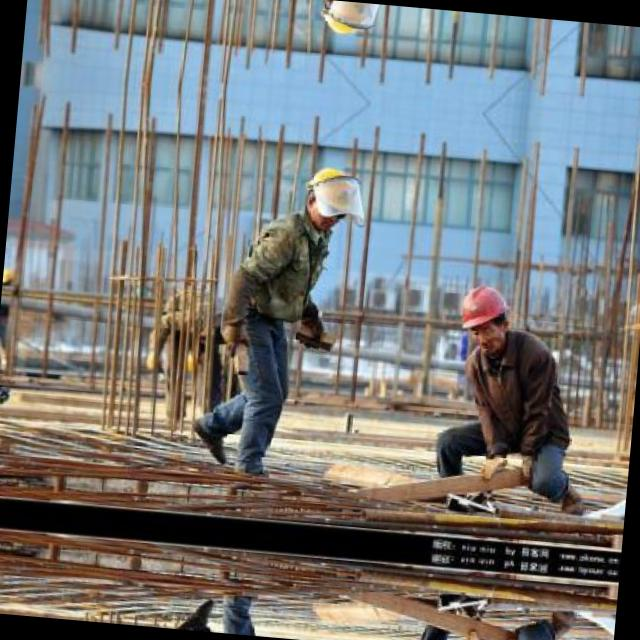helmet: (451, 278, 517, 358), (296, 156, 361, 218), (310, 0, 374, 41)
